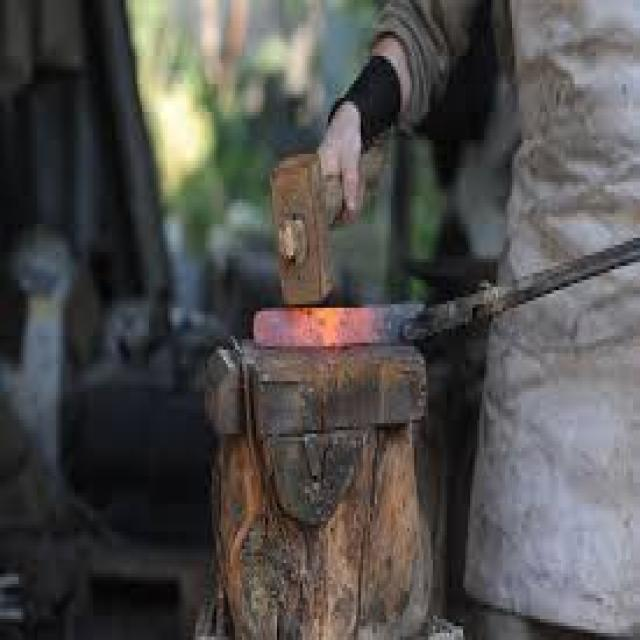hammer: (263, 131, 403, 313)
